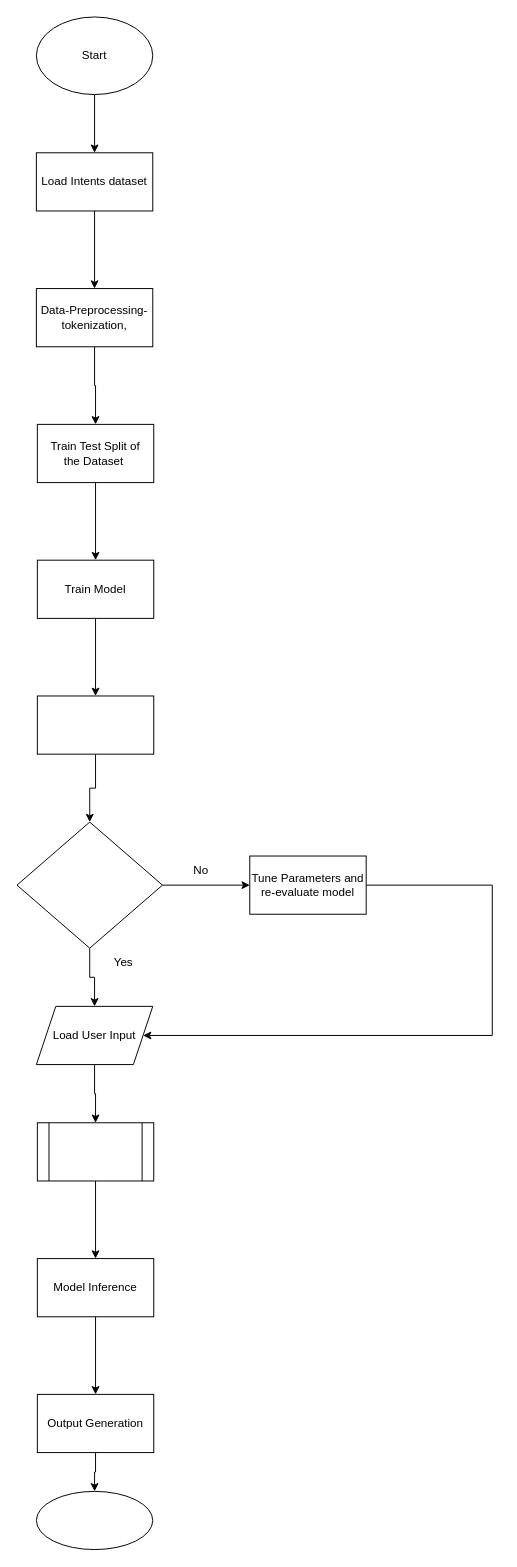
This 517x1567 diagram has some shape labels left out. The shapes that lost their labels are listed below. From the top down, each one's centre as x and y in pixels, then its label:
At [95,724]: "Evaluate Model based on MSE(Mean Squared Error)".
At [89,884]: "Is the Model Accuracy sufficient for Predictions?".
At [95,1151]: "Process text input through tokenization and stemming".
At [94,1520]: "Stop".
